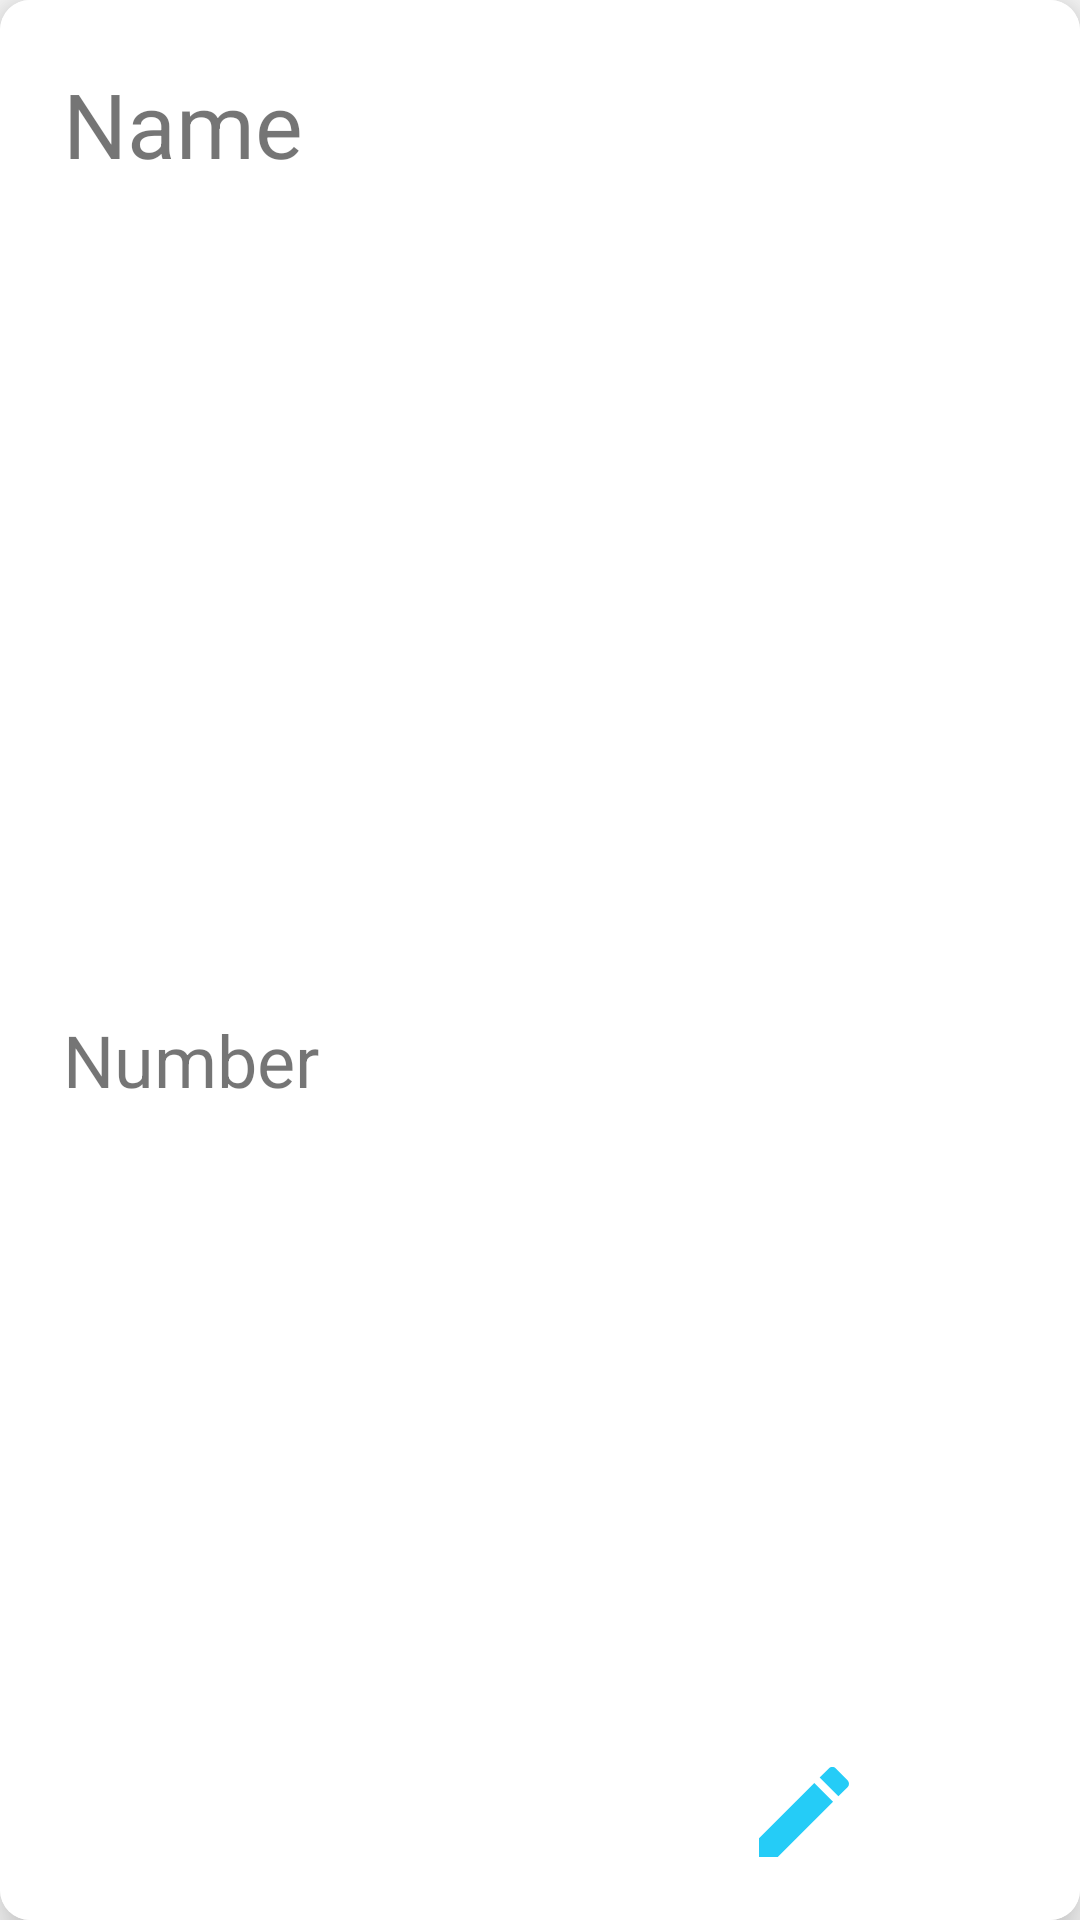

Where to tap for icons on this 1080x1920 app screen, as (x=x, y=y):
edit: (x=804, y=1812)
